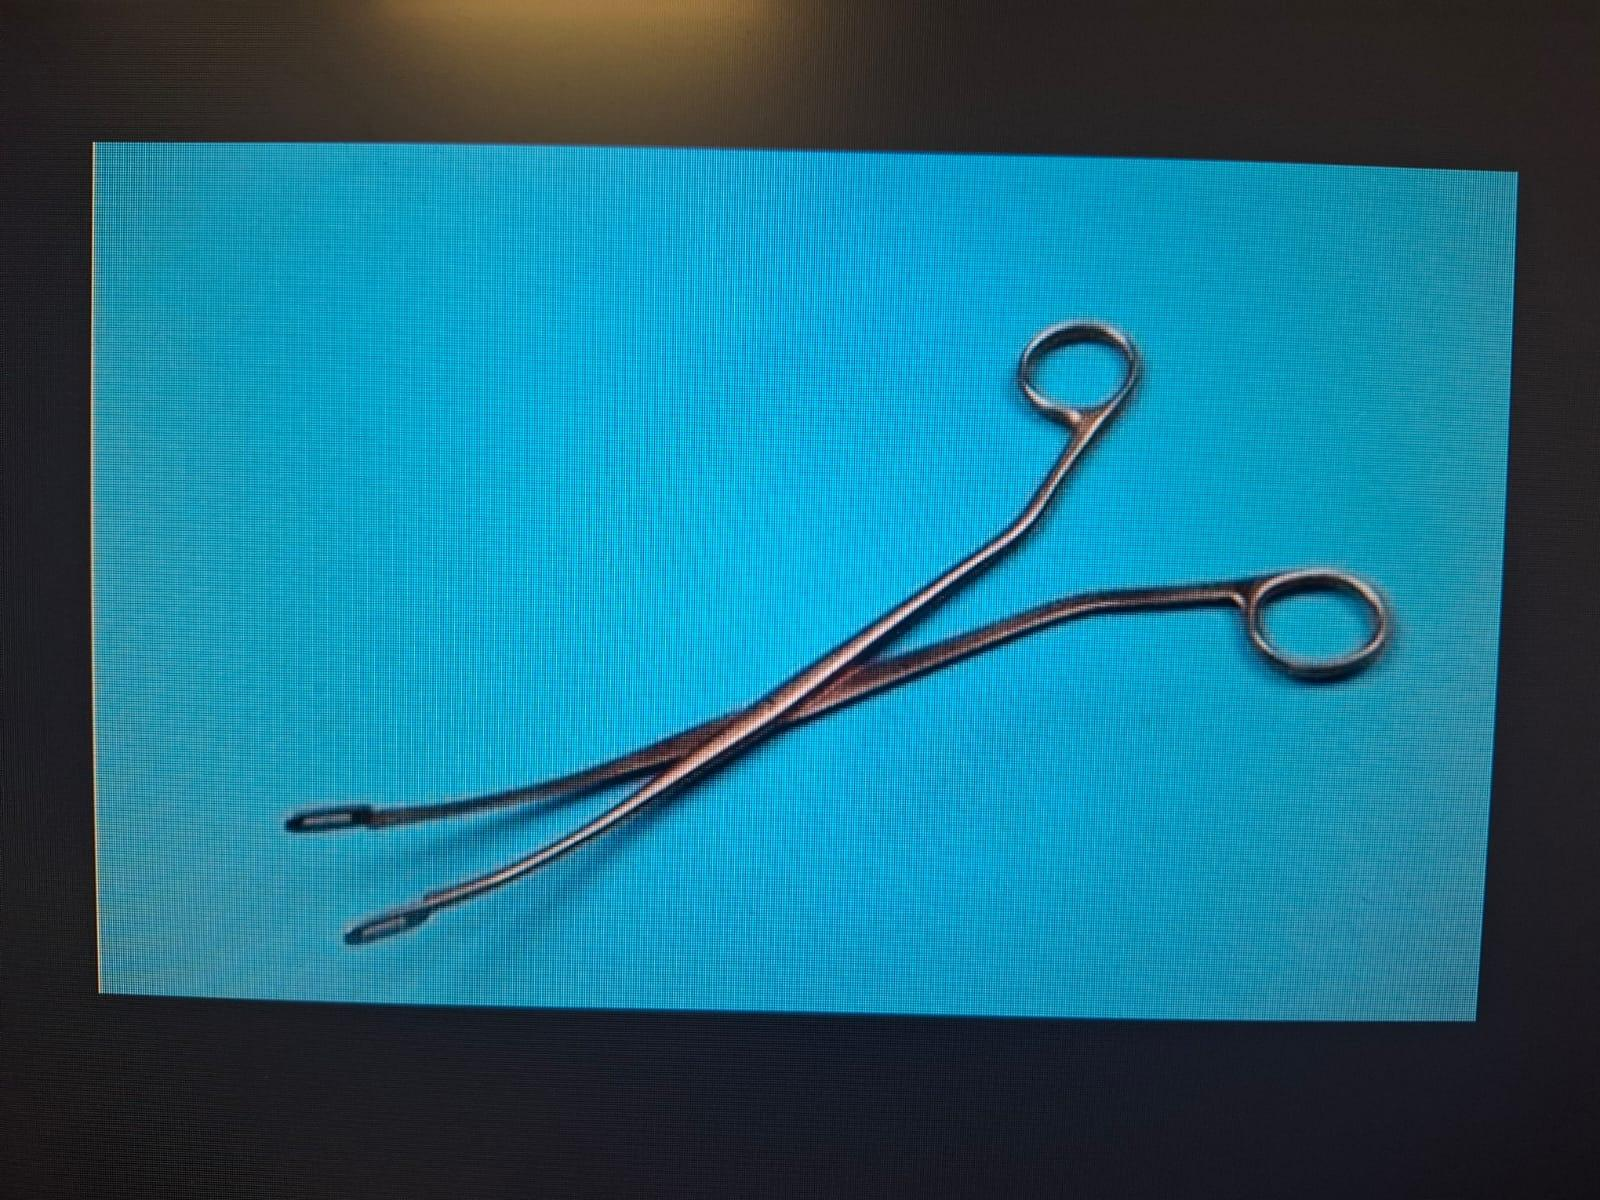Desjardin Forceps: (272, 304, 1419, 966)
